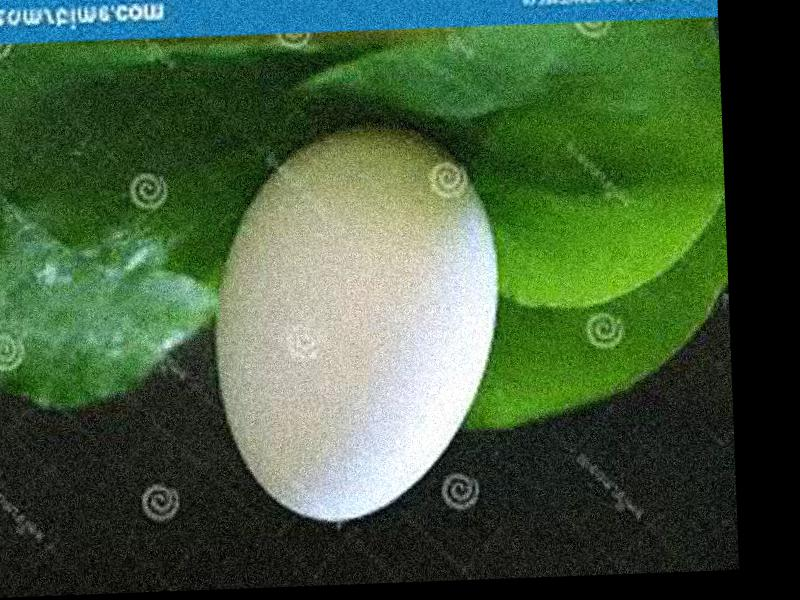Eggs: (207, 122, 507, 525)
